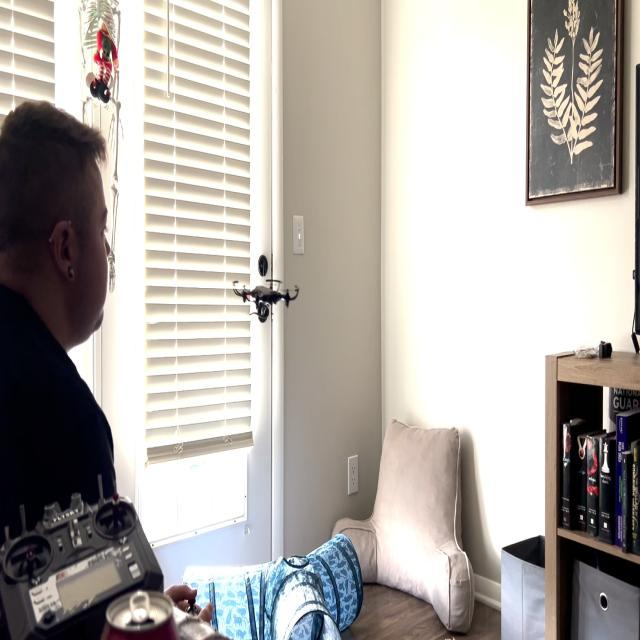drone: (224, 266, 306, 318)
